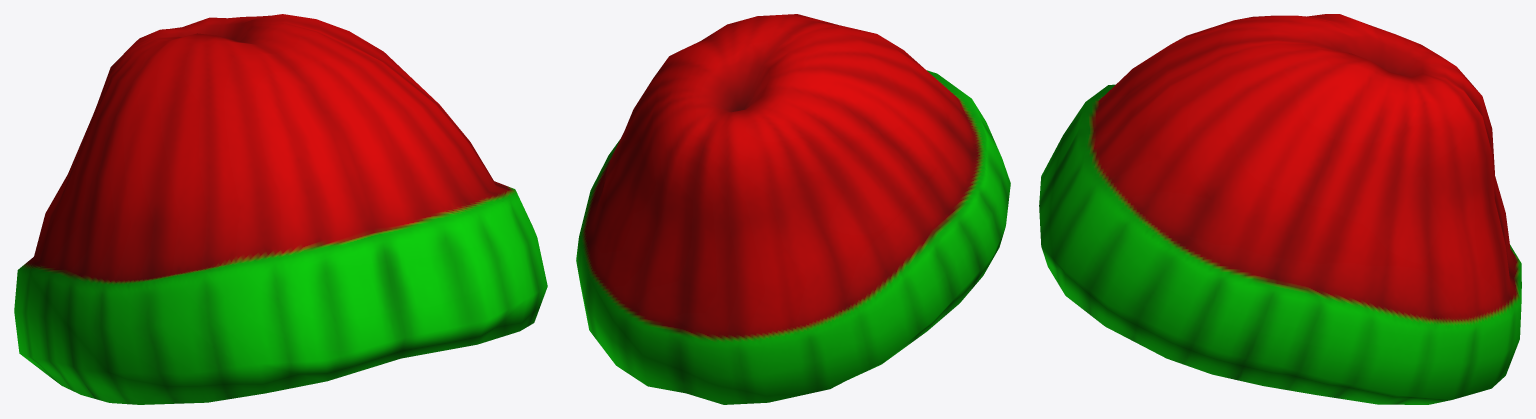
The model's file is Outfit_Hat_WoolHat.obj.
3 renders of one model, left to right at view 1: azimuth 30°, elevation 25°; view 2: azimuth 150°, elevation 25°; view 3: azimuth 270°, elevation 25°, orthographic. The views are drawn at different scales.
Visible parts, largest first — view 1: Outfit_Hat_WoolHat_0; view 2: Outfit_Hat_WoolHat_0; view 3: Outfit_Hat_WoolHat_0.
Part boxes in pixels (x1,y1,x2,y2): Outfit_Hat_WoolHat_0: (14, 14, 547, 404); Outfit_Hat_WoolHat_0: (576, 14, 1010, 404); Outfit_Hat_WoolHat_0: (1039, 14, 1521, 404).
Bounding box in the file's own units: 0.2458 × 0.1928 × 0.2593.
Materials: 1 (1 with a texture image).
